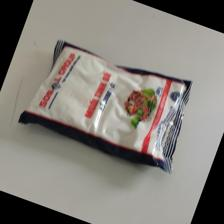Salt: (17, 38, 192, 177)
